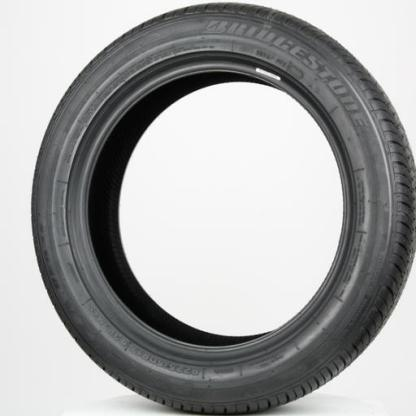Tire: (29, 1, 415, 412)
